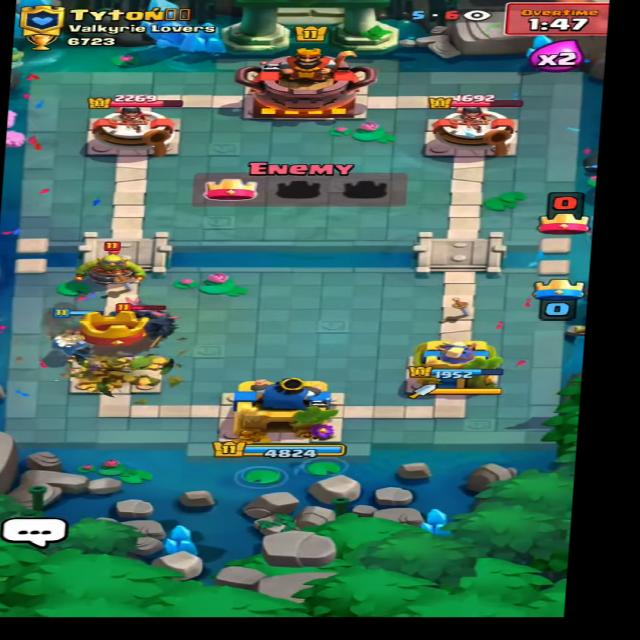goblin-demolisher: (62, 240, 165, 288)
pekka: (102, 299, 187, 338)
